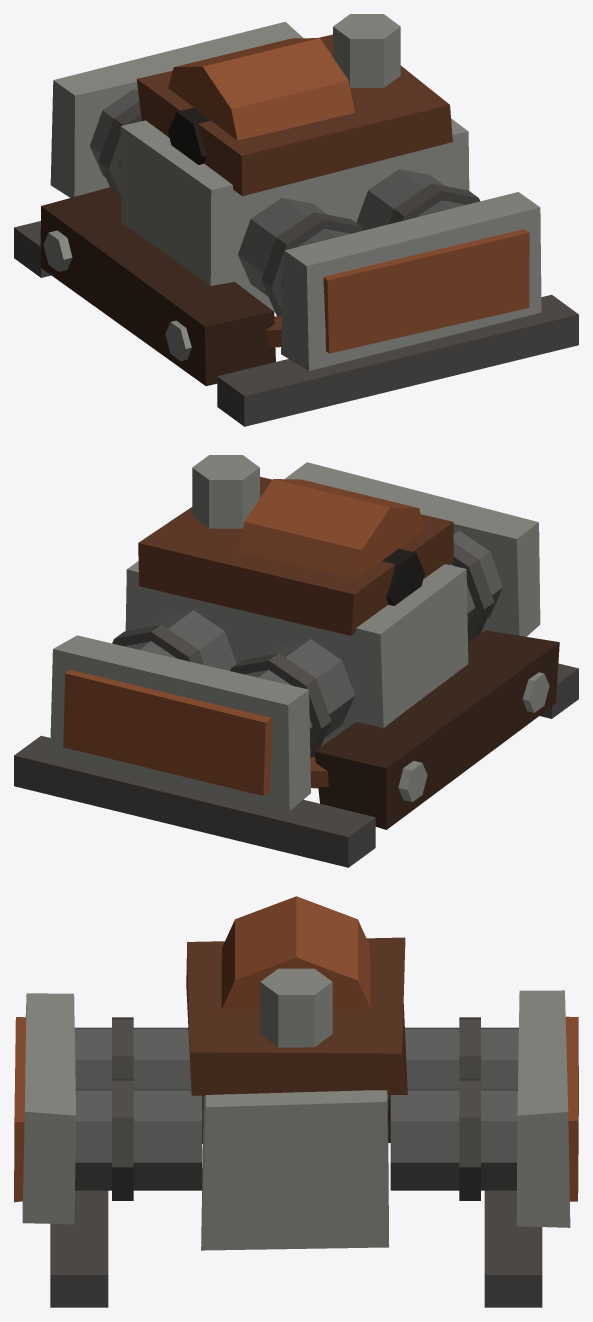
Rendered from eng_flat_four.glb.
3 views of the same model, one above another, from view 1: azimuth 30°, elevation 25°; view 2: azimuth 150°, elevation 25°; view 3: azimuth 270°, elevation 25° (orthographic). The views are drawn at different scales.
Parts seen in each view (by area): view 1: eng_flat_four; view 2: eng_flat_four; view 3: eng_flat_four.
Part boxes in pixels (left/top/right/bottom): eng_flat_four: left=14, top=14, right=578, bottom=426; eng_flat_four: left=14, top=455, right=578, bottom=867; eng_flat_four: left=14, top=896, right=578, bottom=1307.
Size of the model in its own units: 0.595 by 0.42 by 0.7808.
